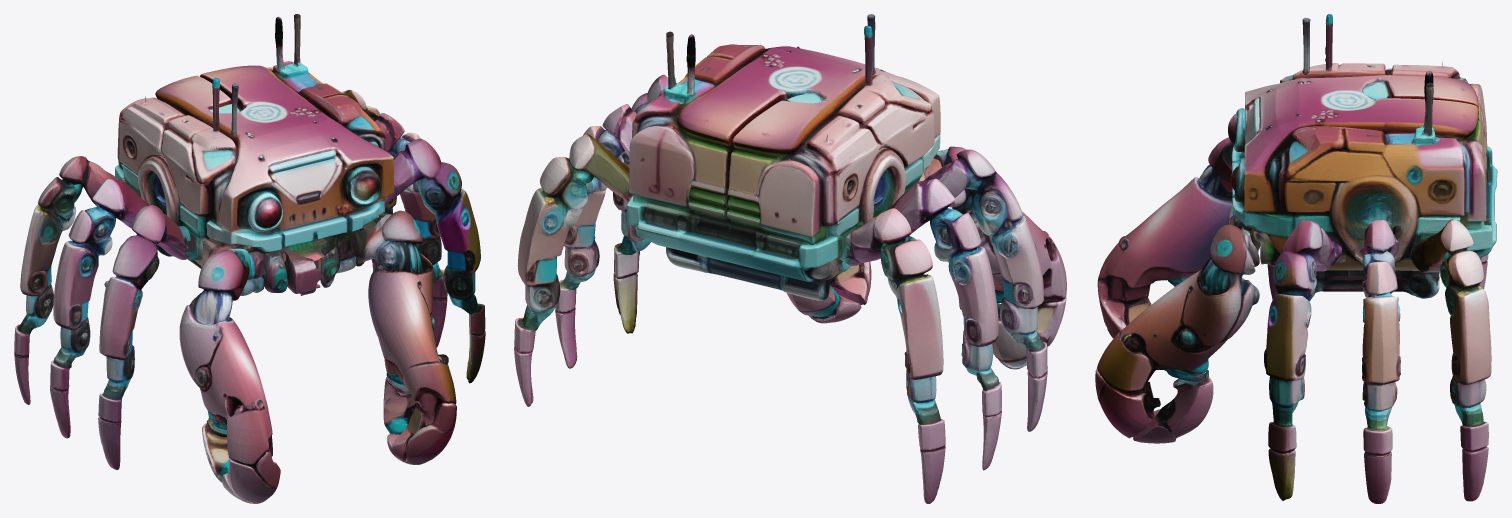
File: typical_creature_robot_crab.glb
The picture shows the model from 3 angles, left to right: view 1: azimuth 30°, elevation 25°; view 2: azimuth 150°, elevation 25°; view 3: azimuth 270°, elevation 25°; orthographic projection. The views are drawn at different scales.
Visible parts, largest first — view 1: 0, 1, 3, 5, 6, 8, 7, 9, 4, 2, 10; view 2: 0, 7, 10, 5, 6, 9, 1, 8, 4, 3, 2; view 3: 0, 3, 1, 10, 8, 9, 4.
Boxes of the visible parts, bbox=[...] form: 0: bbox=[115, 14, 394, 295]; 1: bbox=[179, 248, 322, 502]; 3: bbox=[320, 210, 456, 464]; 5: bbox=[98, 205, 190, 469]; 6: bbox=[50, 179, 149, 438]; 8: bbox=[383, 138, 485, 383]; 7: bbox=[14, 156, 117, 404]; 9: bbox=[375, 113, 447, 347]; 4: bbox=[383, 377, 421, 464]; 2: bbox=[202, 418, 265, 503]; 10: bbox=[342, 89, 396, 271]; 0: bbox=[627, 14, 941, 300]; 7: bbox=[845, 208, 945, 503]; 10: bbox=[514, 133, 633, 406]; 5: bbox=[910, 149, 1047, 431]; 6: bbox=[884, 178, 1001, 470]; 9: bbox=[555, 104, 636, 368]; 1: bbox=[934, 146, 1066, 346]; 8: bbox=[613, 74, 668, 333]; 4: bbox=[787, 286, 861, 323]; 3: bbox=[829, 261, 871, 304]; 2: bbox=[992, 303, 1026, 369]; 0: bbox=[1228, 14, 1497, 298]; 3: bbox=[1095, 217, 1260, 438]; 1: bbox=[1097, 137, 1235, 338]; 10: bbox=[1411, 219, 1491, 501]; 8: bbox=[1264, 220, 1341, 500]; 9: bbox=[1359, 220, 1400, 503]; 4: bbox=[1133, 370, 1213, 443].
Bounding box in the file's own units: 0.9266 × 0.7842 × 0.7735.
Materials: 11 (11 with a texture image).
